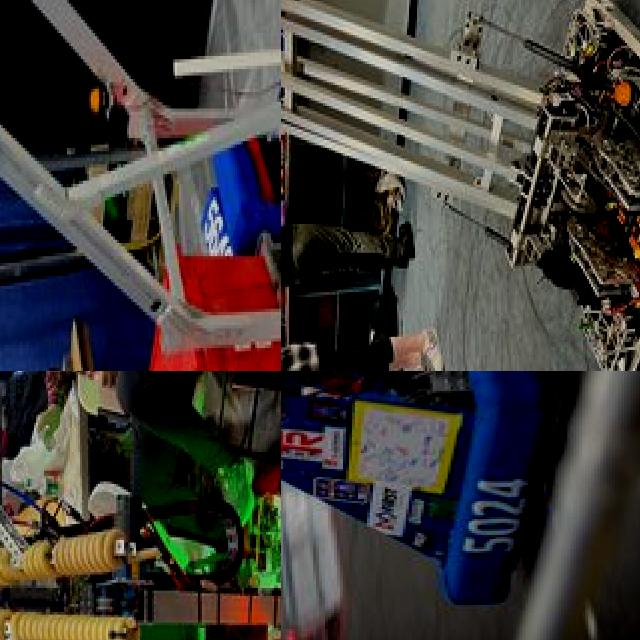FRC-Robots: (281, 0, 640, 371), (0, 0, 281, 371), (0, 371, 281, 640), (281, 371, 553, 543)
